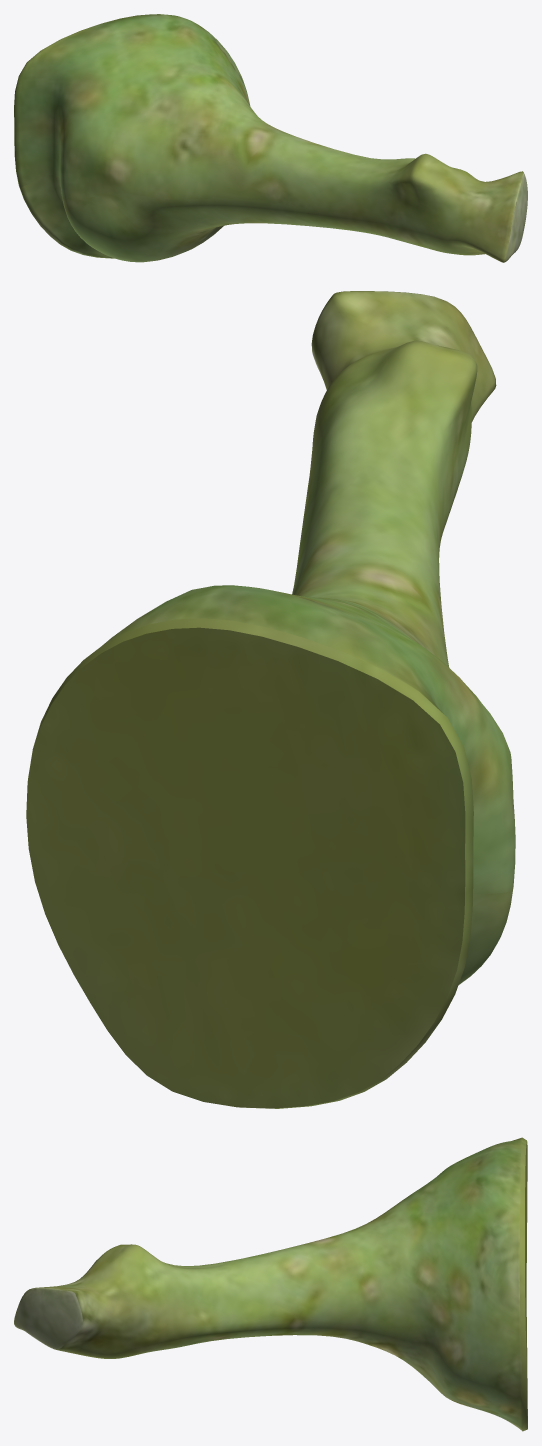
The model's file is GreenGrapeStalk.obj.
3 renders of one model, top to bottom at view 1: azimuth 30°, elevation 25°; view 2: azimuth 150°, elevation 25°; view 3: azimuth 270°, elevation 25°, orthographic. The views are drawn at different scales.
Visible parts, largest first — view 1: GreenGrapeStalk; view 2: GreenGrapeStalk; view 3: GreenGrapeStalk.
Boxes of the visible parts, x1=… form: GreenGrapeStalk: x1=14, y1=14, x2=527, y2=262; GreenGrapeStalk: x1=26, y1=291, x2=515, y2=1108; GreenGrapeStalk: x1=14, y1=1137, x2=527, y2=1431.
Bounding box in the file's own units: 0.0063 × 0.00506 × 0.0093.
Materials: 1 (1 with a texture image).
